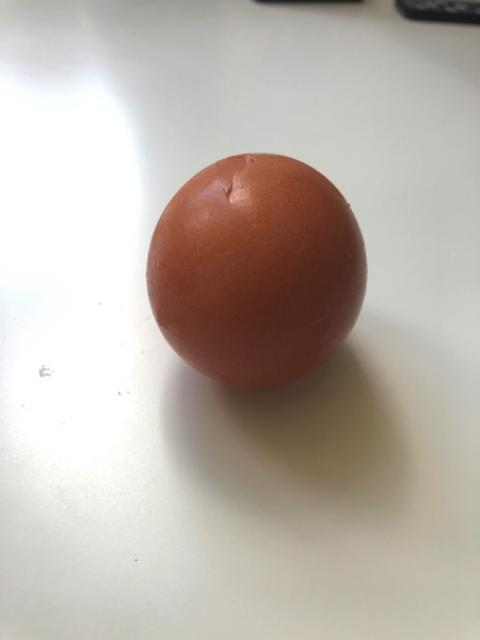Roto: (144, 150, 368, 389)
